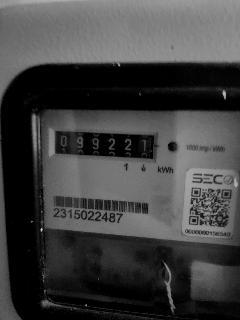1: (61, 136, 67, 147)
2: (141, 140, 148, 152)
3: (109, 139, 116, 150), (125, 140, 131, 151)
:: (77, 138, 84, 149), (93, 139, 100, 150)
